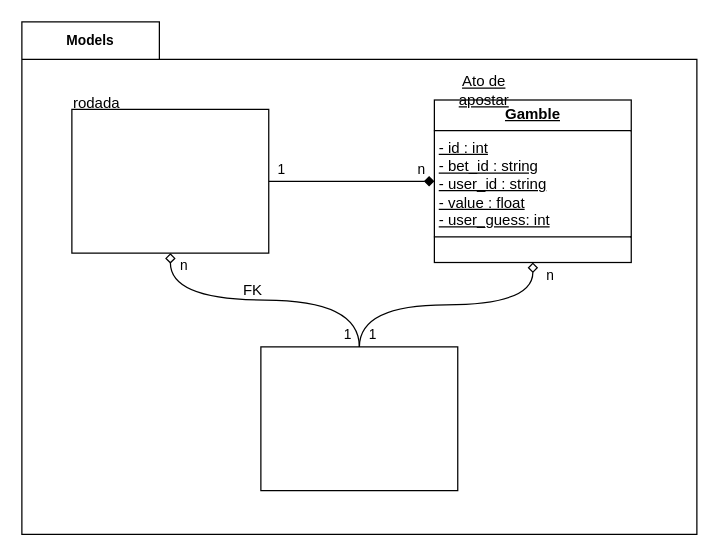
Image size: 719x556. Some labels were removed from this diagram. Each missing label, with the box of its shape:
Bet - id : int - user_id : int - max_users : int - max_gamble : int: (71, 108, 269, 253)
User - id : int - name : string - email : string - password : string: (260, 346, 458, 491)
